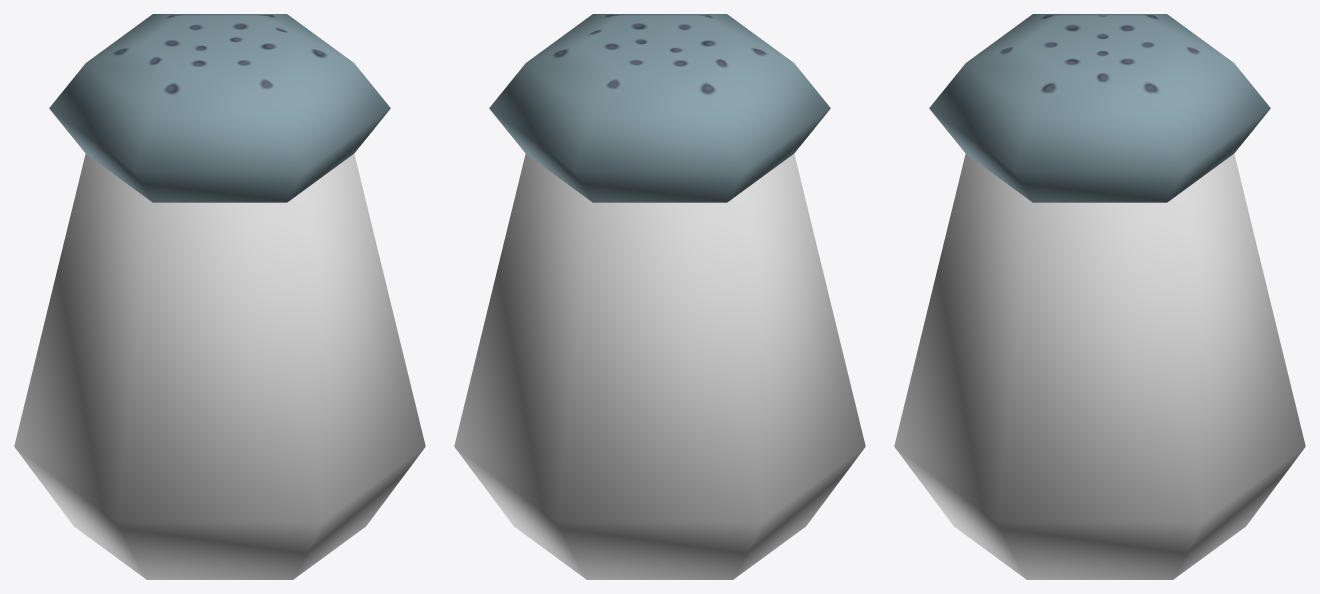
The model's file is salero.fbx.
The picture shows the model from 3 angles, left to right: view 1: azimuth 30°, elevation 25°; view 2: azimuth 150°, elevation 25°; view 3: azimuth 270°, elevation 25°; orthographic projection.
Visible parts, largest first — view 1: salero; view 2: salero; view 3: salero.
Part boxes in pixels (left/top/right/bottom): salero: left=14, top=14, right=425, bottom=579; salero: left=454, top=14, right=865, bottom=579; salero: left=894, top=14, right=1305, bottom=579.
Bounding box in the file's own units: 62.77 × 93.56 × 72.48.
